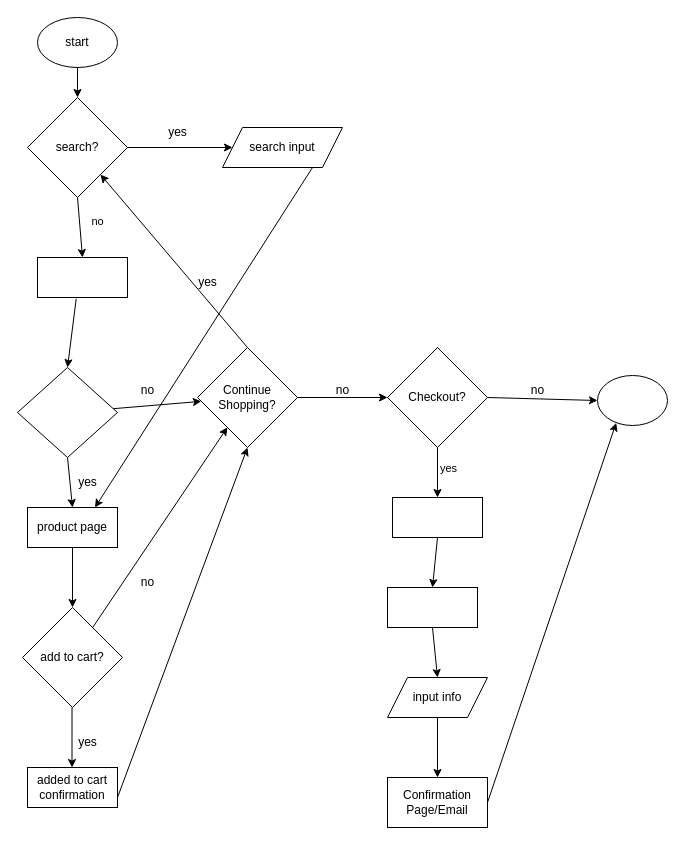
Some shapes in this 685 by 845 pixel diagram are drawn without their labels. Here are the shapes that lost their labels. From the top down, the centre of each, then its label:
point 82,277: view products
point 67,412: View specific product?
point 632,400: exit site
point 437,517: View Cart
point 432,607: View Payment
